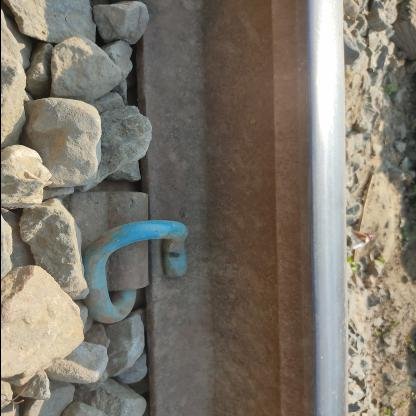Non Defective 1: (33, 174, 227, 354)
